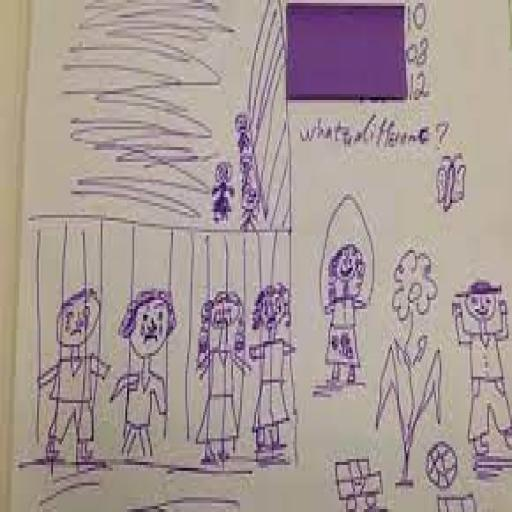person: (33, 283, 113, 480), (316, 190, 381, 395), (117, 279, 179, 484), (189, 284, 251, 476), (453, 279, 512, 478), (248, 278, 306, 472), (208, 152, 242, 234), (235, 178, 271, 238), (231, 108, 264, 160)
